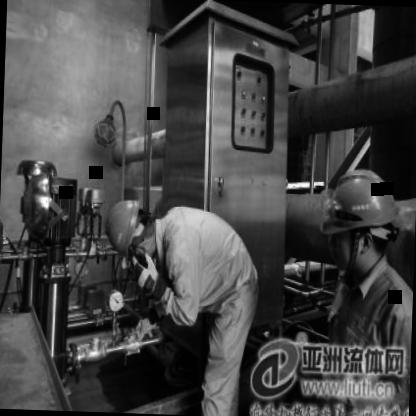helmet: (317, 162, 408, 278), (104, 199, 159, 262)
